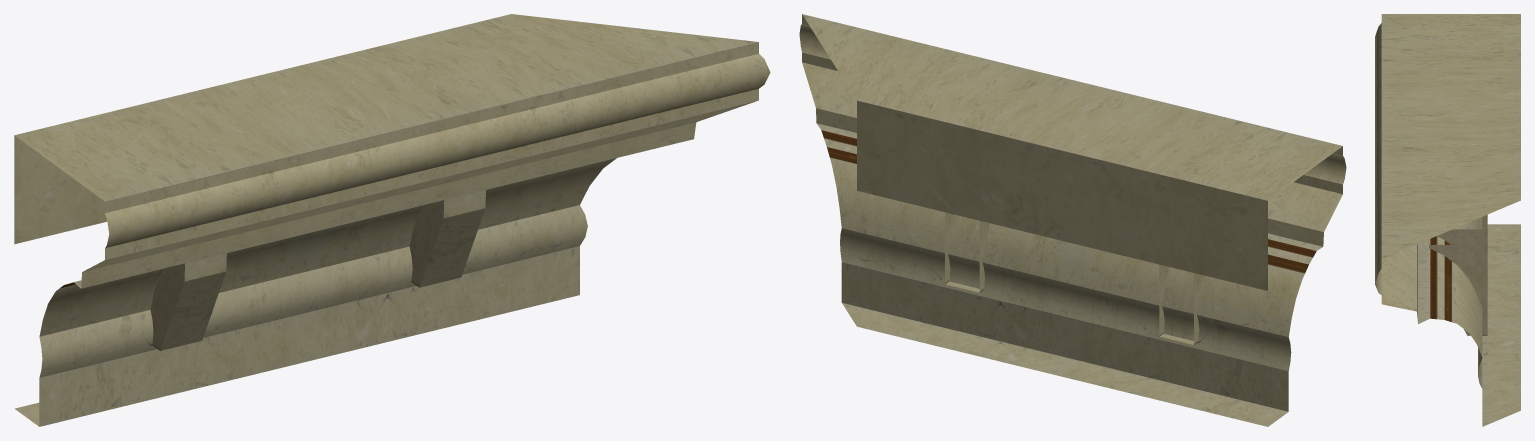
The model's file is Cornice_Trim_R.gltf.
3 views of the same model, side by side, from view 1: azimuth 30°, elevation 25°; view 2: azimuth 150°, elevation 25°; view 3: azimuth 270°, elevation 25° (orthographic). The views are drawn at different scales.
Visible parts, largest first — view 1: Cornice_Trim_R; view 2: Cornice_Trim_R; view 3: Cornice_Trim_R.
Part boxes in pixels (x1=…): Cornice_Trim_R: x1=14, y1=14, x2=770, y2=426; Cornice_Trim_R: x1=799, y1=14, x2=1346, y2=426; Cornice_Trim_R: x1=1375, y1=14, x2=1520, y2=426.
Size of the model in its own units: 2.53 by 0.9984 by 0.6278.
1 material, 1 textured.
